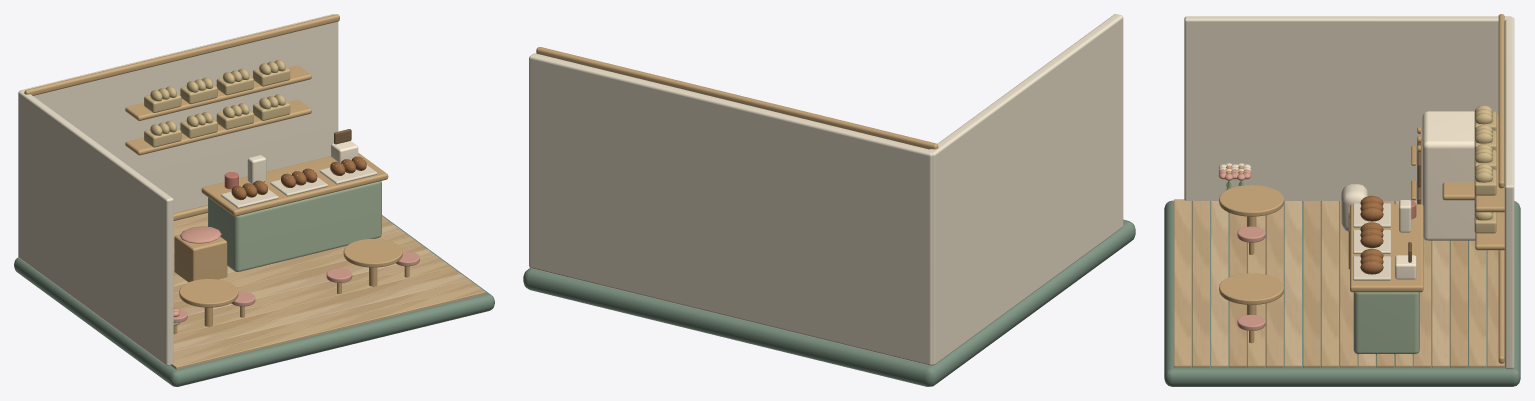
File: bakery.glb
3 views of the same model, side by side, from view 1: azimuth 30°, elevation 25°; view 2: azimuth 150°, elevation 25°; view 3: azimuth 270°, elevation 25° (orthographic). The views are drawn at different scales.
Visible parts, largest first — view 1: shell--奶油墙面, counter--沙发鼠尾草绿, shell--地台侧面, shell--木地板0, shell--木地板1, shelves--书皮, shell--木地板2, shell--木地板3, seating--浅橡木, shell--浅橡木, shelves--浅橡木, counter--浅橡木 (+7 smaller); view 2: shell--奶油墙面, shell--地台侧面, shell--浅橡木; view 3: shell--奶油墙面, shell--地台侧面, shell--木地板1, shell--木地板0, shell--木地板2, shell--木地板3, oven--米白木框, counter--沙发鼠尾草绿, seating--浅橡木, counter--浅橡木, shelves--书皮, shell--浅橡木 (+9 smaller).
Boxes of the visible parts, bbox=[...] form: shell--奶油墙面: bbox=[18, 14, 338, 365]; counter--沙发鼠尾草绿: bbox=[208, 181, 381, 271]; shell--地台侧面: bbox=[14, 215, 494, 386]; shell--木地板0: bbox=[171, 216, 485, 369]; shell--木地板1: bbox=[173, 213, 476, 359]; shelves--书皮: bbox=[144, 60, 290, 147]; shell--木地板2: bbox=[173, 225, 468, 351]; shell--木地板3: bbox=[173, 218, 460, 343]; seating--浅橡木: bbox=[173, 238, 409, 334]; shell--浅橡木: bbox=[24, 14, 339, 220]; shelves--浅橡木: bbox=[125, 65, 311, 155]; counter--浅橡木: bbox=[201, 153, 388, 216]; shell--奶油墙面: bbox=[529, 14, 1123, 365]; shell--地台侧面: bbox=[523, 220, 1135, 386]; shell--浅橡木: bbox=[536, 47, 938, 149]; shell--奶油墙面: bbox=[1184, 16, 1514, 368]; shell--地台侧面: bbox=[1164, 200, 1520, 386]; shell--木地板1: bbox=[1192, 201, 1504, 367]; shell--木地板0: bbox=[1174, 199, 1486, 367]; shell--木地板2: bbox=[1211, 201, 1449, 367]; shell--木地板3: bbox=[1229, 201, 1467, 367]; oven--米白木框: bbox=[1422, 111, 1475, 241]; counter--沙发鼠尾草绿: bbox=[1353, 292, 1419, 354]; seating--浅橡木: bbox=[1219, 185, 1283, 343]; counter--浅橡木: bbox=[1350, 204, 1423, 292]; shelves--书皮: bbox=[1474, 105, 1496, 233]; shell--浅橡木: bbox=[1498, 14, 1504, 363].
Size of the model in its own units: 6.7 by 3.68 by 5.8.
Materials: 19 (4 with a texture image).
